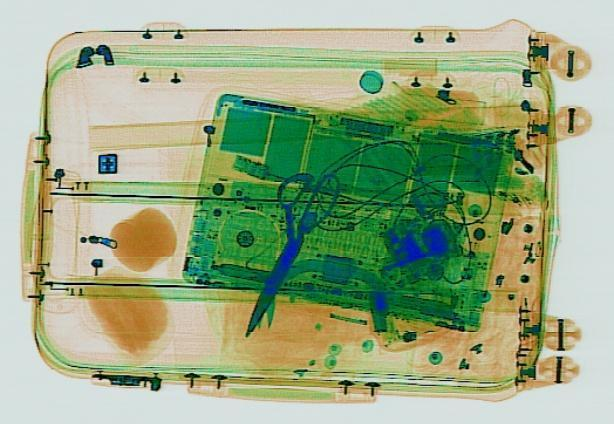Scissors: (214, 165, 346, 340)
